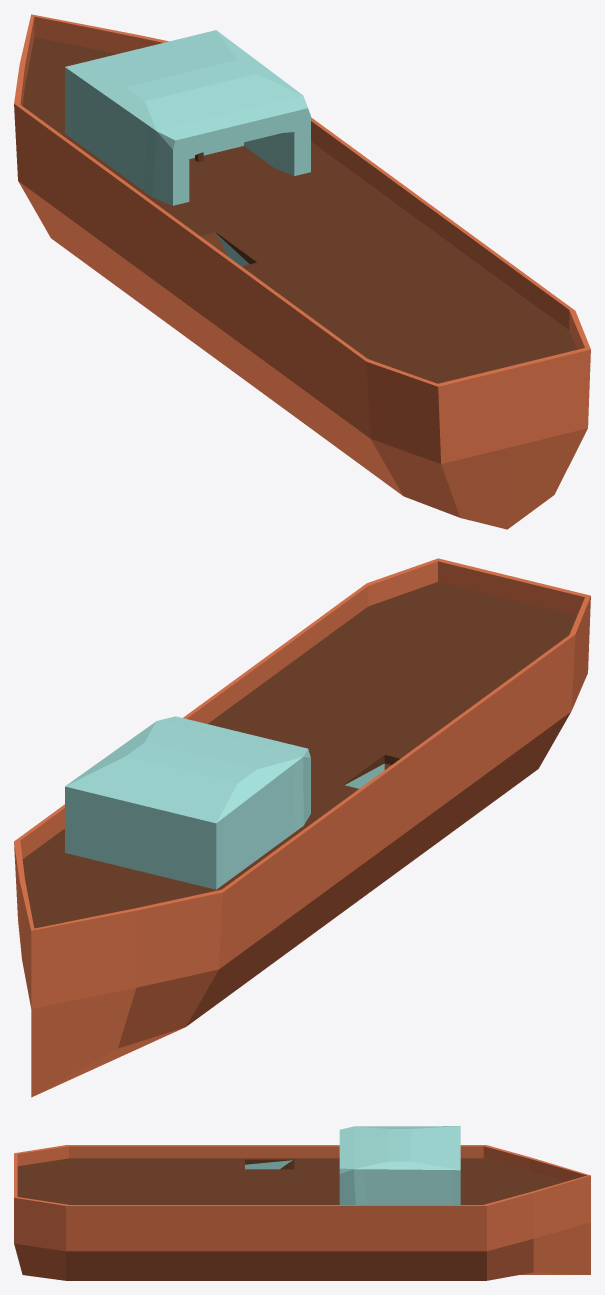
The model's file is CruiseShip.fbx.
3 renders of one model, top to bottom at view 1: azimuth 30°, elevation 25°; view 2: azimuth 150°, elevation 25°; view 3: azimuth 270°, elevation 25°, orthographic. The views are drawn at different scales.
Parts seen in each view (by area): view 1: CruiseShip; view 2: CruiseShip; view 3: CruiseShip.
Part boxes in pixels (<box>): CruiseShip: <box>14,14,590,529</box>; CruiseShip: <box>14,558,590,1097</box>; CruiseShip: <box>14,1126,590,1280</box>.
Size of the model in its own units: 2760 by 2746 by 11060.
